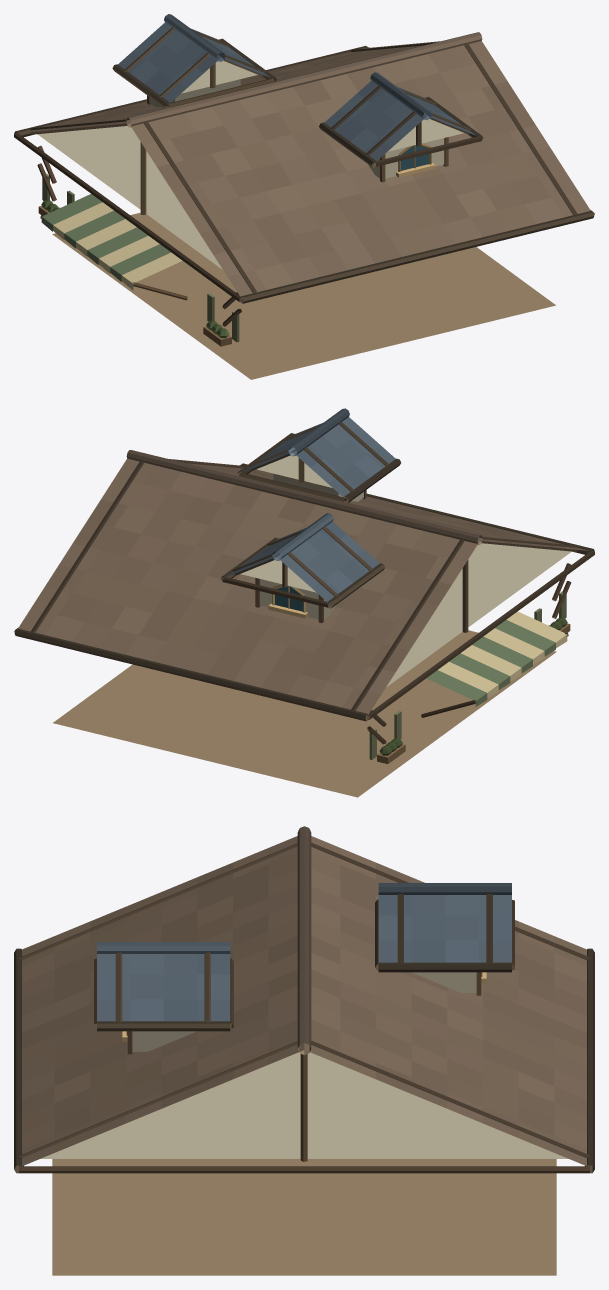
3 renders of one model, top to bottom at view 1: azimuth 30°, elevation 25°; view 2: azimuth 150°, elevation 25°; view 3: azimuth 270°, elevation 25°, orthographic. The views are drawn at different scales.
Parts seen in each view (by area): view 1: 7b510c9b185a85b598d6513971bbb68199d3715fbd33b411d65f1736e938; view 2: 7b510c9b185a85b598d6513971bbb68199d3715fbd33b411d65f1736e938; view 3: 7b510c9b185a85b598d6513971bbb68199d3715fbd33b411d65f1736e938.
Part boxes in pixels (x1,y1,x2,y2): 7b510c9b185a85b598d6513971bbb68199d3715fbd33b411d65f1736e938: [14, 14, 594, 379]; 7b510c9b185a85b598d6513971bbb68199d3715fbd33b411d65f1736e938: [14, 408, 594, 797]; 7b510c9b185a85b598d6513971bbb68199d3715fbd33b411d65f1736e938: [14, 826, 594, 1275].
Size of the model in its own units: 9.98 by 5.04 by 10.02.
6 materials, 1 textured.
